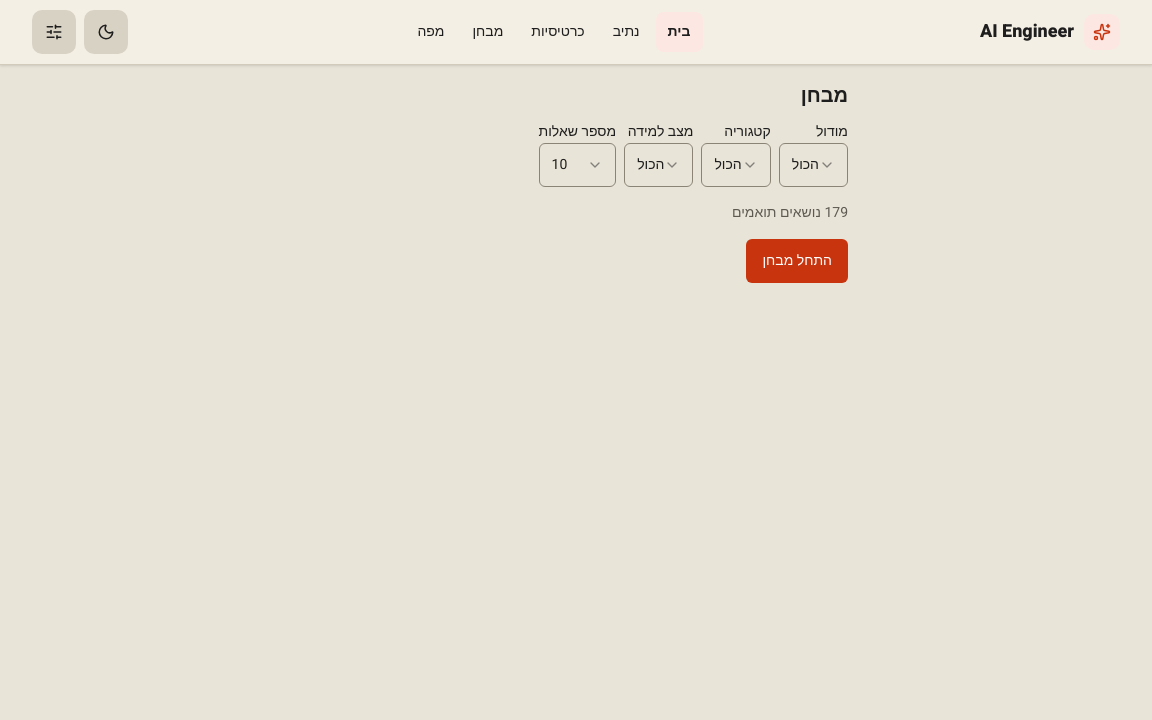
Quiz › reflects hydrated progress data even if the store was still loading when the page mounted
Click the dropdown named "מצב למידה". click: (659, 165)
box: left=624, top=143, right=694, bottom=187
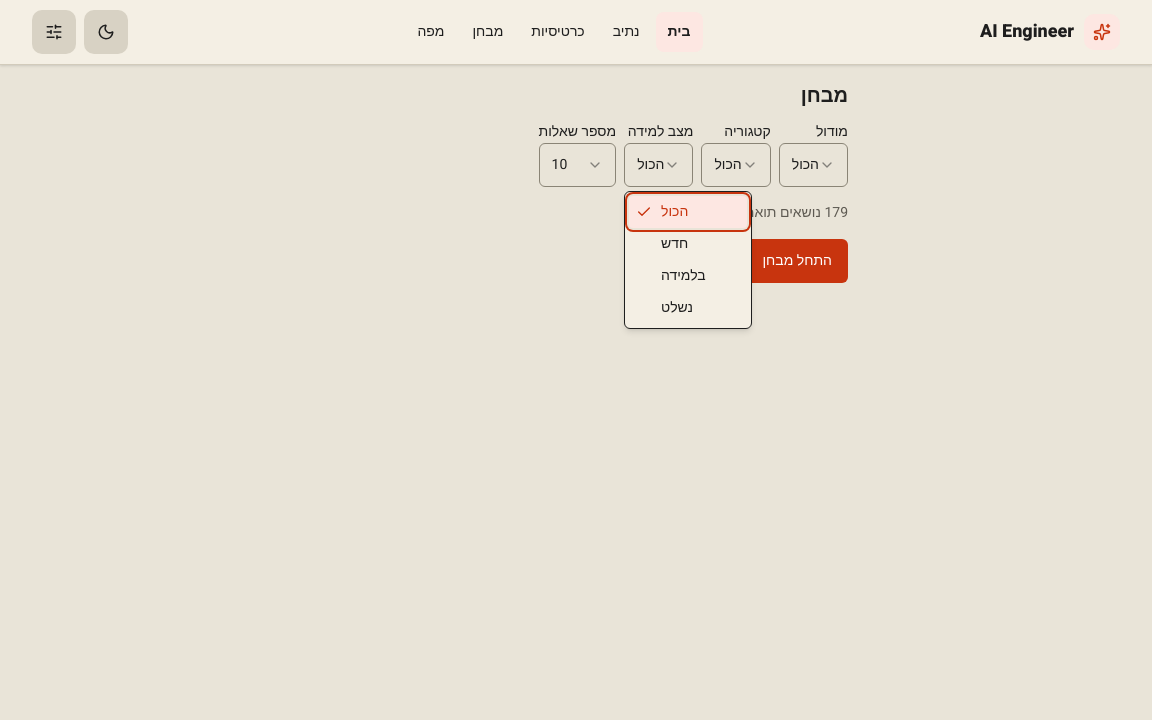
Click the option "חדש". click: (675, 244)
box: left=661, top=233, right=688, bottom=254
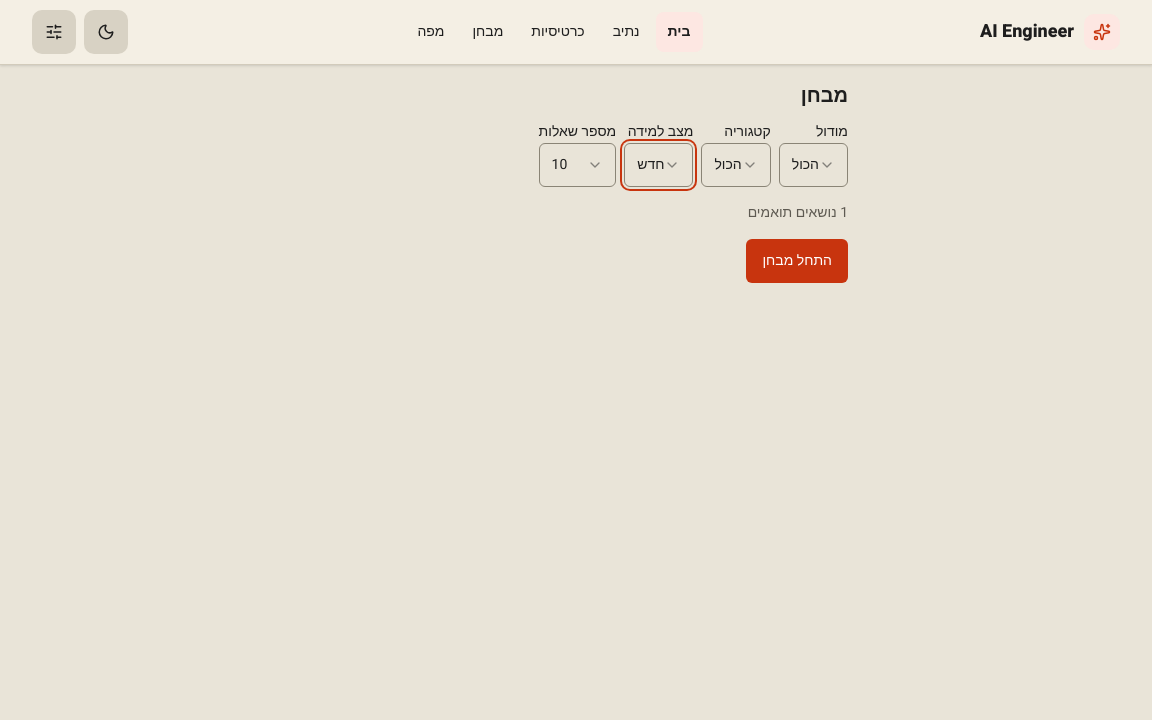
Click the button "התחל מבחן". click: (797, 261)
box: left=746, top=239, right=848, bottom=283
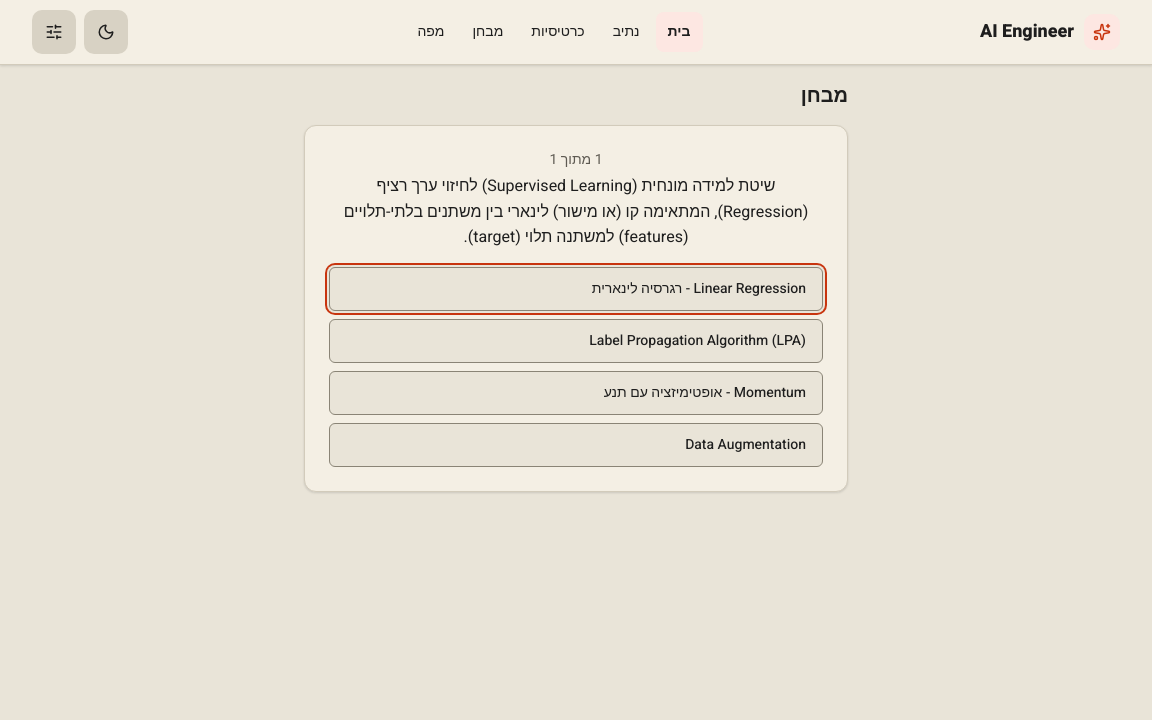
Now the text "1 מתוך 1" is shown, box left=549, top=149, right=602, bottom=170
